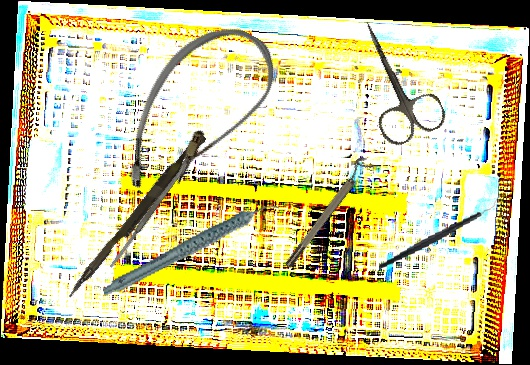Cannula: (105, 5, 291, 222)
Chopper: (371, 196, 506, 270)
Fixation Ring: (278, 153, 375, 271)
Handpiece: (92, 201, 291, 298)
Iris Scissors: (338, 8, 450, 150)
Pusher: (66, 129, 207, 304)
Spatula Surgical: (107, 148, 198, 270)
